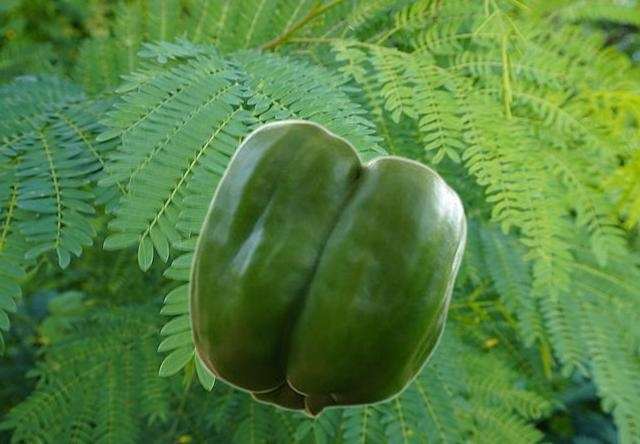bell_pepper: (187, 118, 466, 417)
